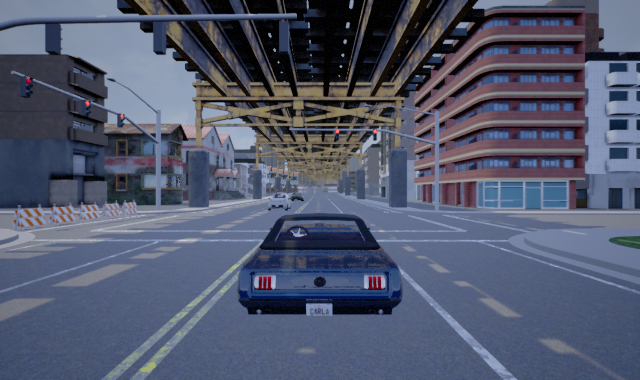traffic_light: (20, 75, 34, 100), (80, 100, 92, 118), (117, 111, 126, 129), (334, 126, 340, 144), (373, 126, 378, 142)
vehicle: (237, 214, 402, 316), (266, 192, 292, 211), (289, 191, 306, 203)
